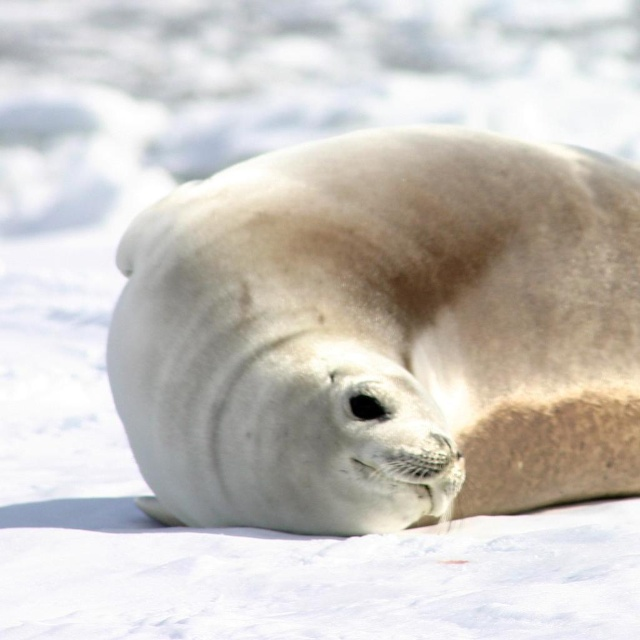Harbor seal: (99, 114, 640, 540)
